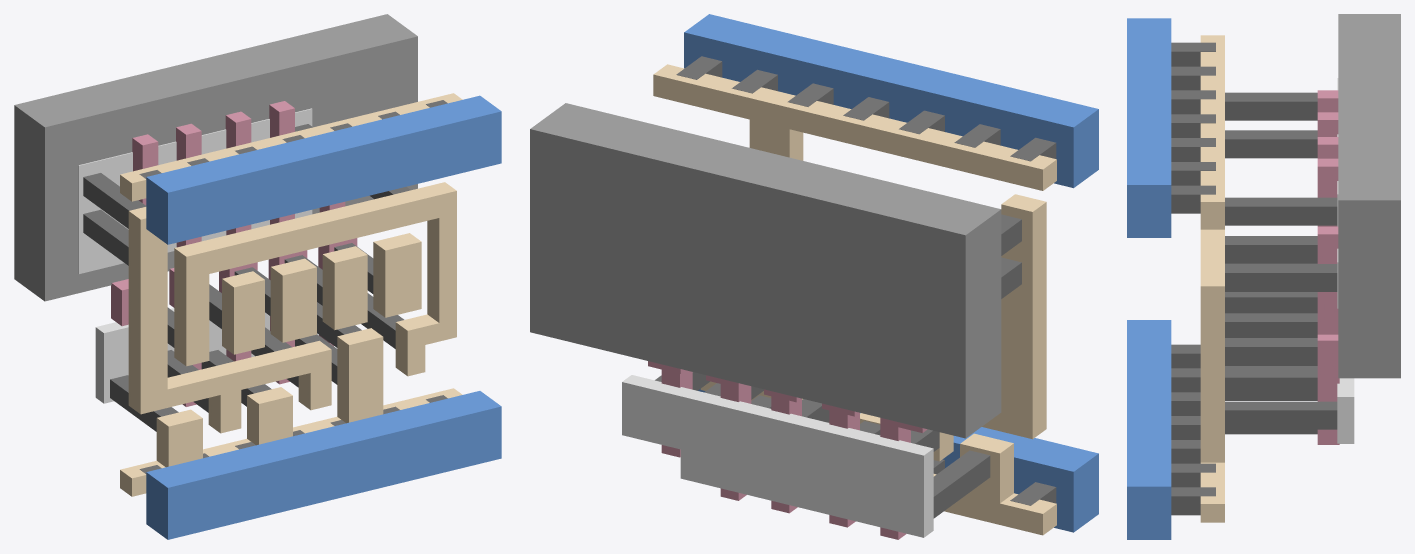
The model's file is sky130_fd_sc_hd__nor4b_1.gds.gltf.
The picture shows the model from 3 angles, left to right: view 1: azimuth 30°, elevation 25°; view 2: azimuth 150°, elevation 25°; view 3: azimuth 270°, elevation 25°; orthographic projection. The views are drawn at different scales.
Parts seen in each view (by area): view 1: sky130_fd_sc_hd__nor4b_1_li1, sky130_fd_sc_hd__nor4b_1_met1, sky130_fd_sc_hd__nor4b_1_nwell, sky130_fd_sc_hd__nor4b_1_licon, sky130_fd_sc_hd__nor4b_1_diff, sky130_fd_sc_hd__nor4b_1_poly, sky130_fd_sc_hd__nor4b_1_mcon; view 2: sky130_fd_sc_hd__nor4b_1_nwell, sky130_fd_sc_hd__nor4b_1_li1, sky130_fd_sc_hd__nor4b_1_met1, sky130_fd_sc_hd__nor4b_1_diff, sky130_fd_sc_hd__nor4b_1_mcon, sky130_fd_sc_hd__nor4b_1_licon, sky130_fd_sc_hd__nor4b_1_poly; view 3: sky130_fd_sc_hd__nor4b_1_licon, sky130_fd_sc_hd__nor4b_1_nwell, sky130_fd_sc_hd__nor4b_1_met1, sky130_fd_sc_hd__nor4b_1_mcon, sky130_fd_sc_hd__nor4b_1_li1, sky130_fd_sc_hd__nor4b_1_poly, sky130_fd_sc_hd__nor4b_1_diff.
Part boxes in pixels (x1,y1,x2,y2): sky130_fd_sc_hd__nor4b_1_li1: (120, 93, 462, 496); sky130_fd_sc_hd__nor4b_1_met1: (146, 95, 501, 539); sky130_fd_sc_hd__nor4b_1_nwell: (14, 14, 417, 301); sky130_fd_sc_hd__nor4b_1_licon: (83, 124, 410, 431); sky130_fd_sc_hd__nor4b_1_diff: (78, 108, 312, 403); sky130_fd_sc_hd__nor4b_1_poly: (111, 101, 357, 406); sky130_fd_sc_hd__nor4b_1_mcon: (139, 100, 447, 473); sky130_fd_sc_hd__nor4b_1_nwell: (530, 103, 1001, 438); sky130_fd_sc_hd__nor4b_1_li1: (653, 64, 1056, 535); sky130_fd_sc_hd__nor4b_1_met1: (684, 14, 1098, 532); sky130_fd_sc_hd__nor4b_1_diff: (622, 375, 933, 537); sky130_fd_sc_hd__nor4b_1_mcon: (676, 56, 1056, 505); sky130_fd_sc_hd__nor4b_1_licon: (655, 214, 1021, 518); sky130_fd_sc_hd__nor4b_1_poly: (648, 361, 927, 539); sky130_fd_sc_hd__nor4b_1_licon: (1225, 92, 1337, 434); sky130_fd_sc_hd__nor4b_1_nwell: (1338, 14, 1400, 378); sky130_fd_sc_hd__nor4b_1_met1: (1127, 18, 1171, 539); sky130_fd_sc_hd__nor4b_1_mcon: (1171, 42, 1215, 515); sky130_fd_sc_hd__nor4b_1_li1: (1200, 35, 1224, 522); sky130_fd_sc_hd__nor4b_1_poly: (1317, 90, 1339, 444); sky130_fd_sc_hd__nor4b_1_diff: (1337, 78, 1354, 443).
Bounding box in the file's own units: 3.6 × 3.2 × 2.24.
